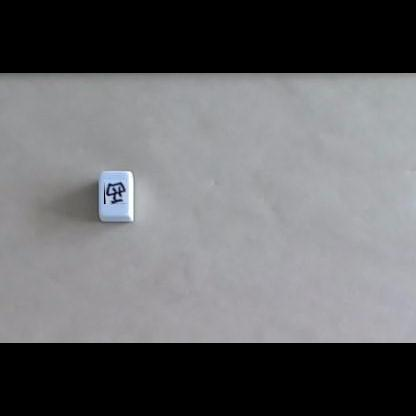3z: (104, 180, 126, 204)
